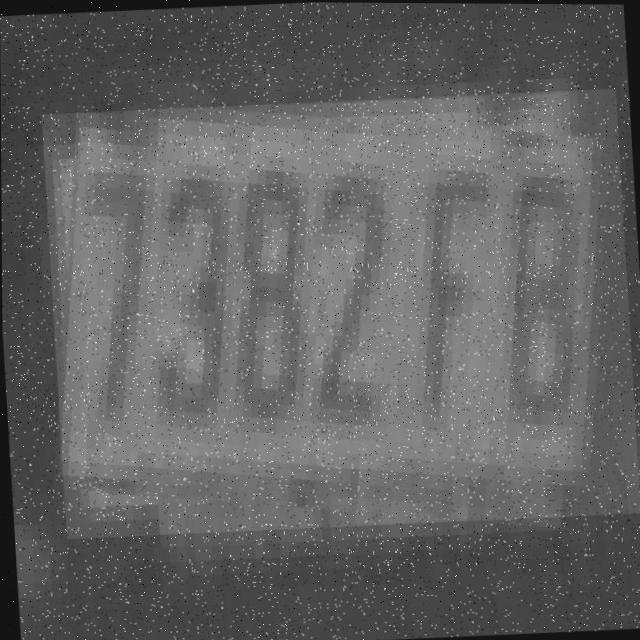LicensePlate: (41, 85, 640, 542)
